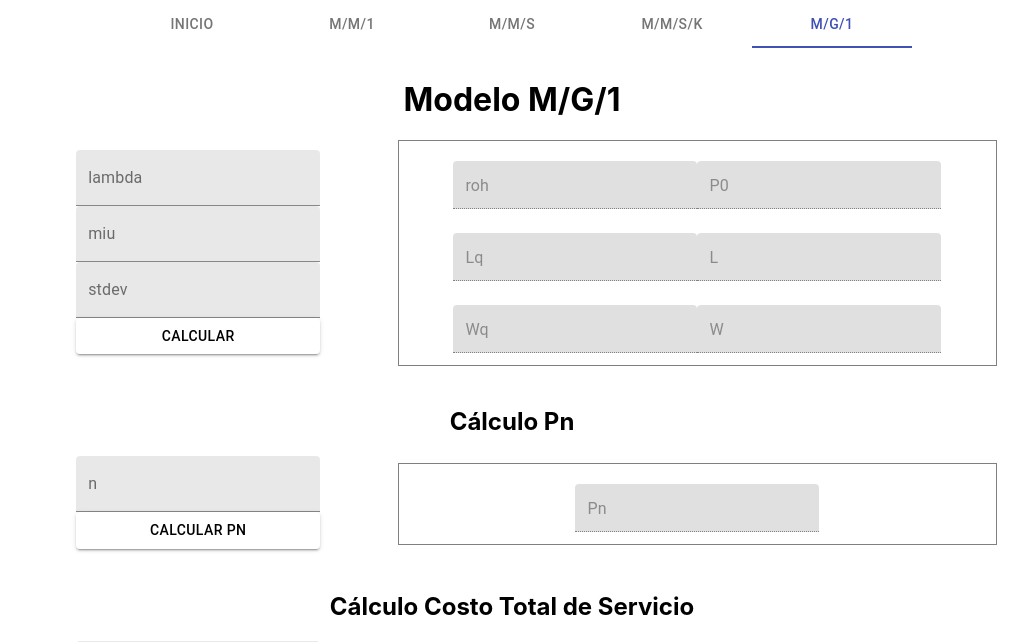
Test: Test input validation › negative numbers error n
Type "-1" into the number field labelled "n".
click(198, 484); type("-1")  # box [76, 456, 320, 512]
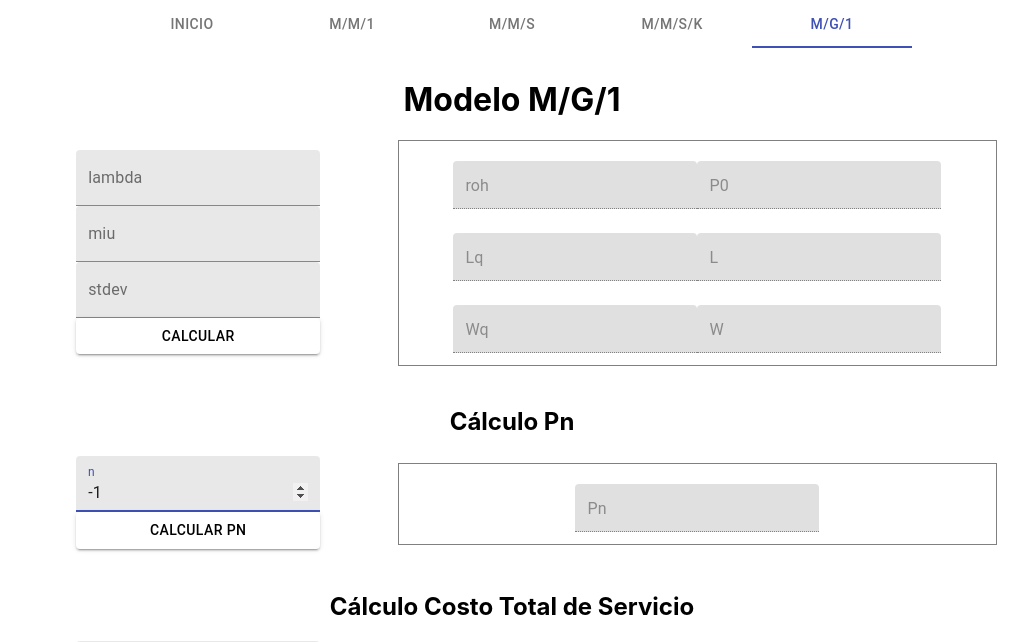
Click the button "Calcular Pn".
click(198, 530)  # box [76, 512, 320, 549]
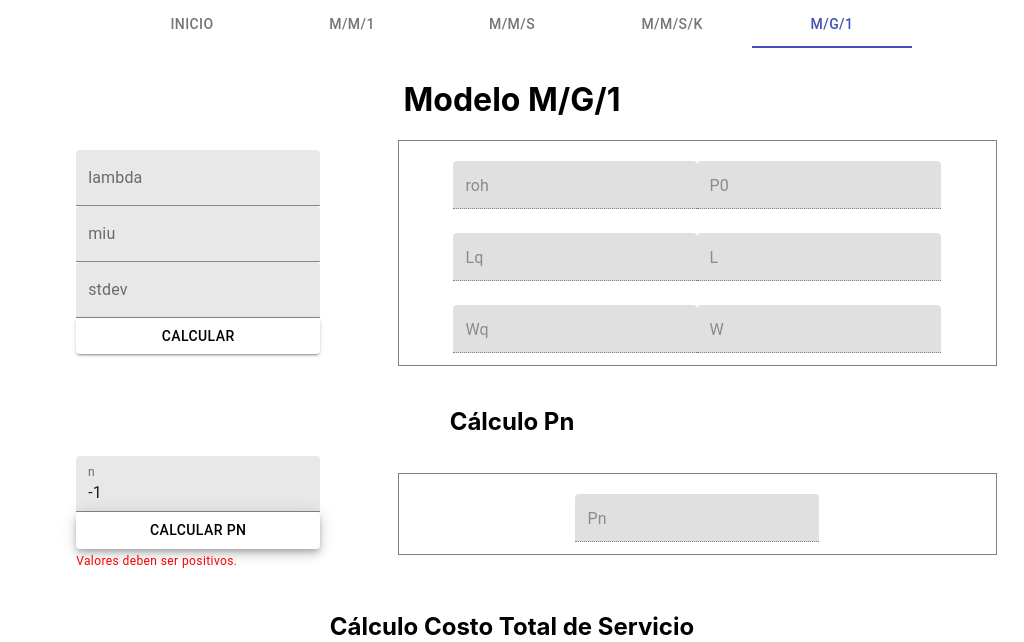
Expected: the text "Valores deben ser positivos." is shown, [76, 554, 238, 568]
